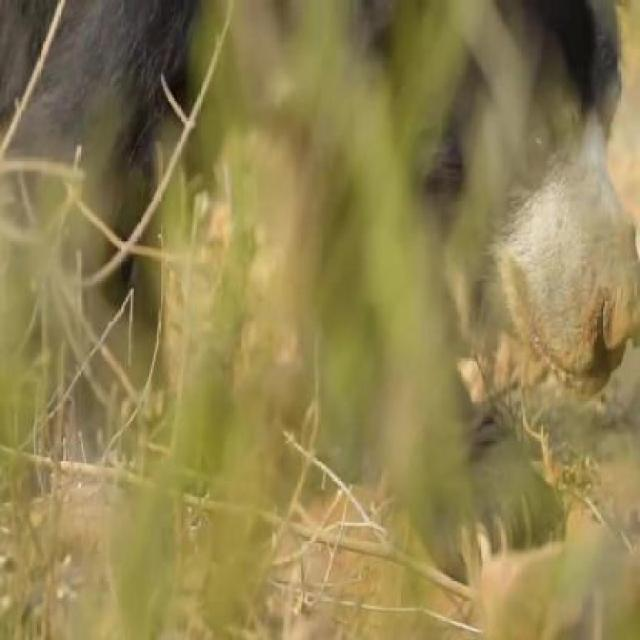Bear: (0, 0, 631, 571)
